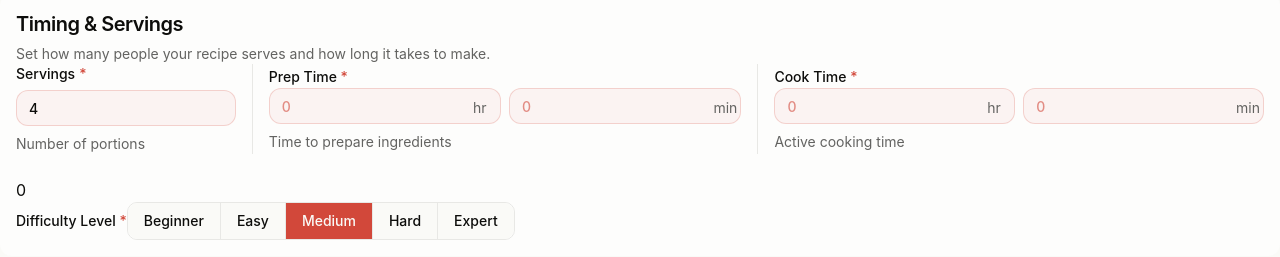
Test: TimingStep › Servings control › should allow direct input of servings value
// Triple-click to select all, then type new value
Step 1. Click the number field labelled "Servings" → point(126, 108), box [16,90,236,126]
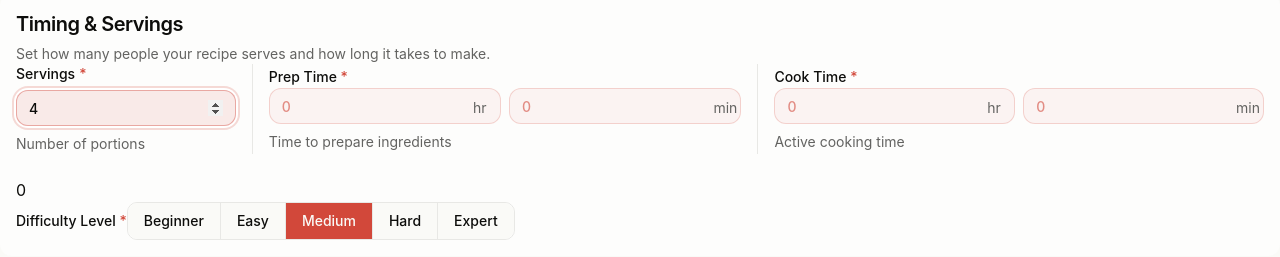
Step 2. Type keys "8"
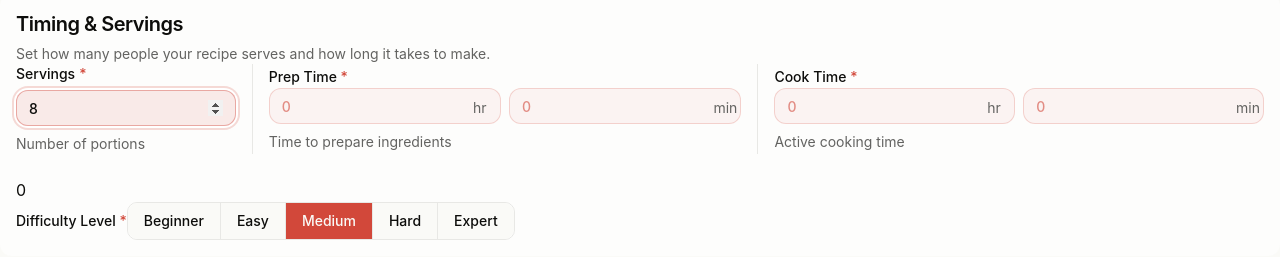
Now the number field labelled "Servings" holds "8", box [16,90,236,126]
